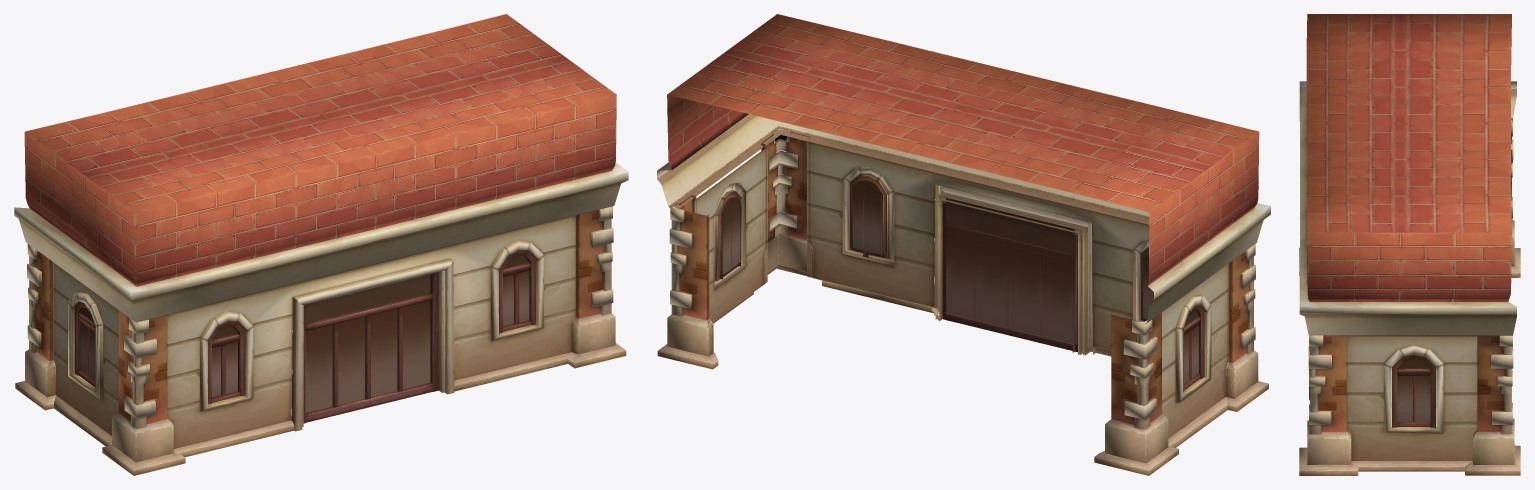
The model's file is dj_fangzi3.FBX.
3 renders of one model, left to right at view 1: azimuth 30°, elevation 25°; view 2: azimuth 150°, elevation 25°; view 3: azimuth 270°, elevation 25°, orthographic. The views are drawn at different scales.
Parts seen in each view (by area): view 1: dj_jianzhu_03; view 2: dj_jianzhu_03; view 3: dj_jianzhu_03.
Boxes of the visible parts, x1,y1,x2,y2 form: dj_jianzhu_03: (14,14,628,475); dj_jianzhu_03: (657,14,1270,475); dj_jianzhu_03: (1299,14,1520,475).
Bounding box in the file's own units: 1054 × 526 × 438.
